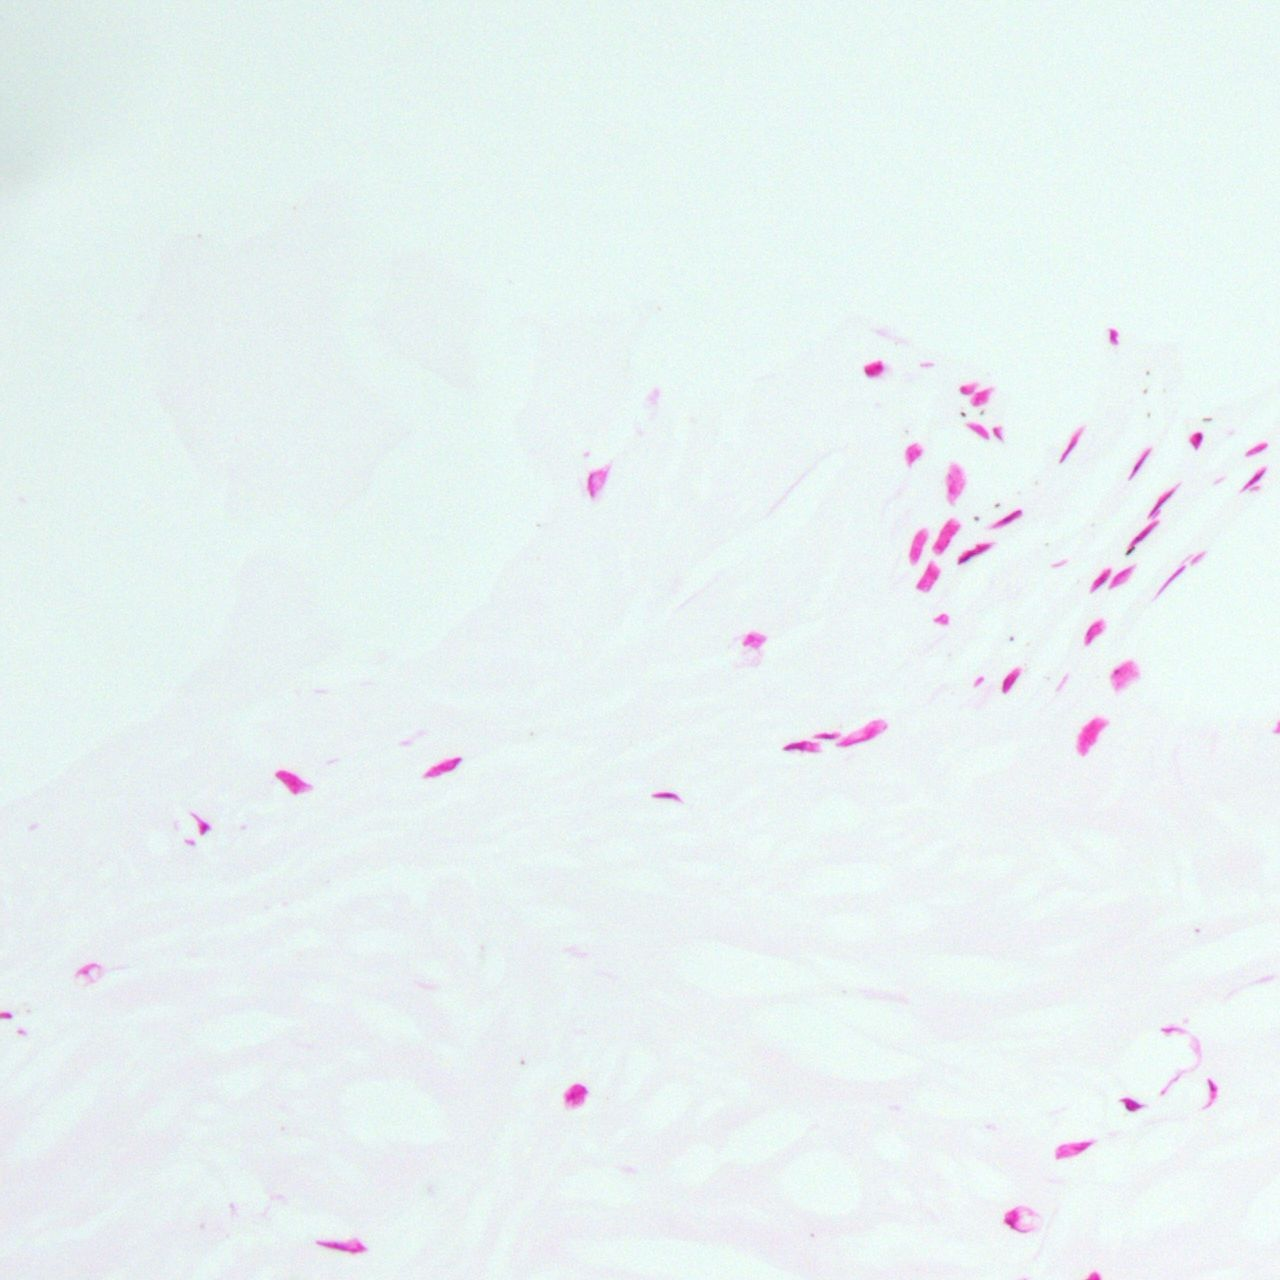dust: (1125, 544, 1137, 554), (1201, 417, 1212, 421), (973, 515, 979, 520), (994, 502, 999, 508), (960, 411, 966, 416), (1143, 388, 1148, 394), (1145, 370, 1149, 375), (1148, 411, 1150, 417)
nucleus-FG: (835, 714, 890, 755), (313, 1227, 368, 1257), (1122, 517, 1160, 552), (420, 753, 463, 783), (1143, 483, 1178, 519), (1057, 423, 1085, 465), (953, 536, 992, 566), (1125, 445, 1153, 482), (1078, 615, 1108, 647), (1239, 464, 1268, 493), (996, 663, 1023, 695), (989, 508, 1024, 531), (1085, 565, 1114, 594), (564, 1083, 587, 1108), (862, 358, 887, 380), (783, 741, 821, 751), (1187, 430, 1203, 451), (813, 731, 840, 738)
